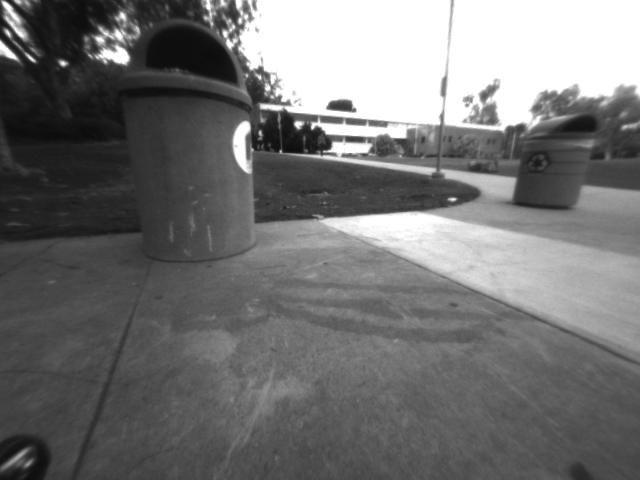trashcan: (107, 7, 265, 264)
